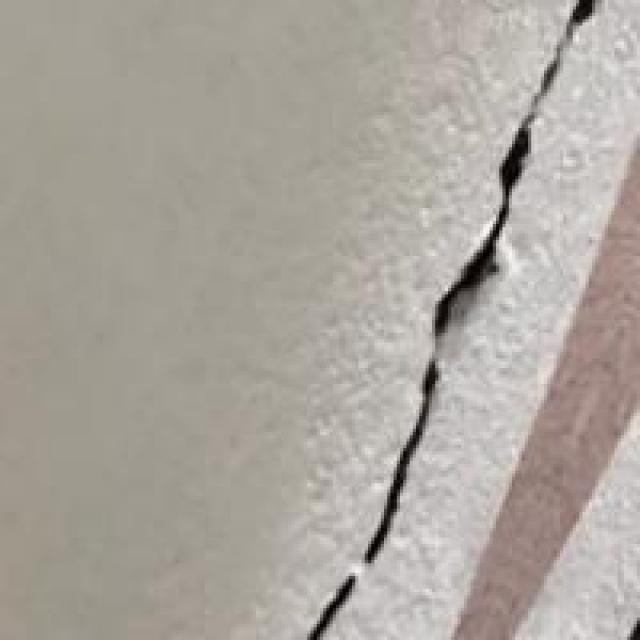Crack: (291, 6, 627, 636)
